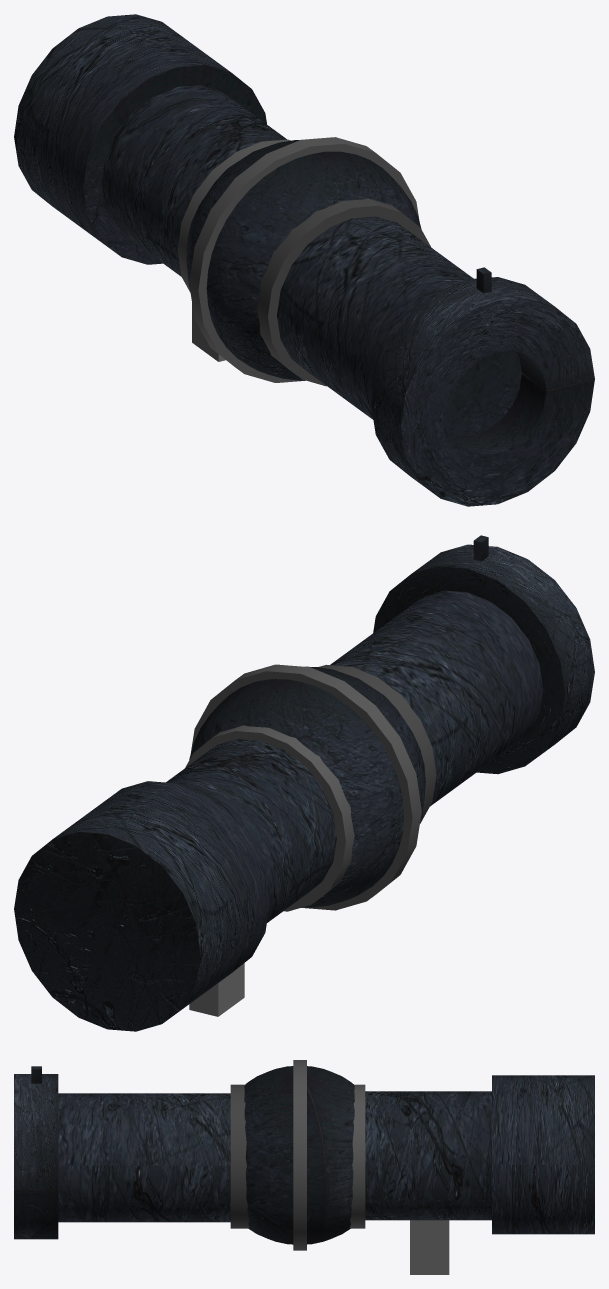
Rendered from black shooter.fbx.
The picture shows the model from 3 angles, top to bottom: view 1: azimuth 30°, elevation 25°; view 2: azimuth 150°, elevation 25°; view 3: azimuth 270°, elevation 25°; orthographic projection. The views are drawn at different scales.
Parts seen in each view (by area): view 1: polySurface1, polySurface2, polySurface8, polySurface4, polySurface6, polySurface5, polySurface3, polySurface7; view 2: polySurface8, polySurface2, polySurface4, polySurface1, polySurface6, polySurface5, polySurface7, polySurface3, polySurface9; view 3: polySurface2, polySurface6, polySurface8, polySurface4, polySurface1, polySurface5, polySurface3, polySurface9, polySurface7.
Boxes of the visible parts, left/top/right/bottom form: polySurface1: left=371, top=277, right=594, bottom=506; polySurface2: left=277, top=216, right=521, bottom=436; polySurface8: left=14, top=14, right=266, bottom=264; polySurface4: left=186, top=140, right=421, bottom=380; polySurface6: left=101, top=85, right=286, bottom=276; polySurface5: left=189, top=137, right=419, bottom=382; polySurface3: left=257, top=198, right=430, bottom=386; polySurface7: left=177, top=139, right=290, bottom=292; polySurface8: left=14, top=781, right=269, bottom=1031; polySurface2: left=330, top=590, right=543, bottom=806; polySurface4: left=189, top=666, right=425, bottom=907; polySurface1: left=373, top=544, right=594, bottom=774; polySurface6: left=166, top=739, right=336, bottom=922; polySurface5: left=190, top=664, right=421, bottom=910; polySurface7: left=185, top=725, right=354, bottom=911; polySurface3: left=318, top=664, right=436, bottom=823; polySurface9: left=189, top=963, right=244, bottom=1016; polySurface2: left=58, top=1093, right=230, bottom=1222; polySurface6: left=365, top=1091, right=491, bottom=1220; polySurface8: left=492, top=1075, right=594, bottom=1234; polySurface4: left=244, top=1066, right=354, bottom=1244; polySurface1: left=14, top=1074, right=58, bottom=1239; polySurface5: left=293, top=1060, right=306, bottom=1250; polySurface3: left=230, top=1084, right=249, bottom=1228; polySurface9: left=410, top=1220, right=449, bottom=1274; polySurface7: left=349, top=1084, right=365, bottom=1228.
Size of the model in its own units: 3.31 by 3.84 by 10.03.
5 materials, 1 textured.
